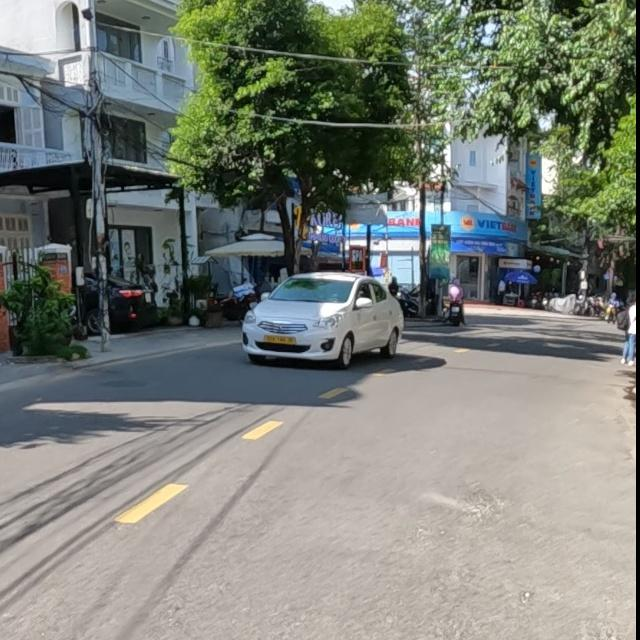license-plate: (264, 335, 295, 344)
